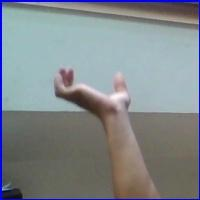B: (51, 62, 138, 113)
